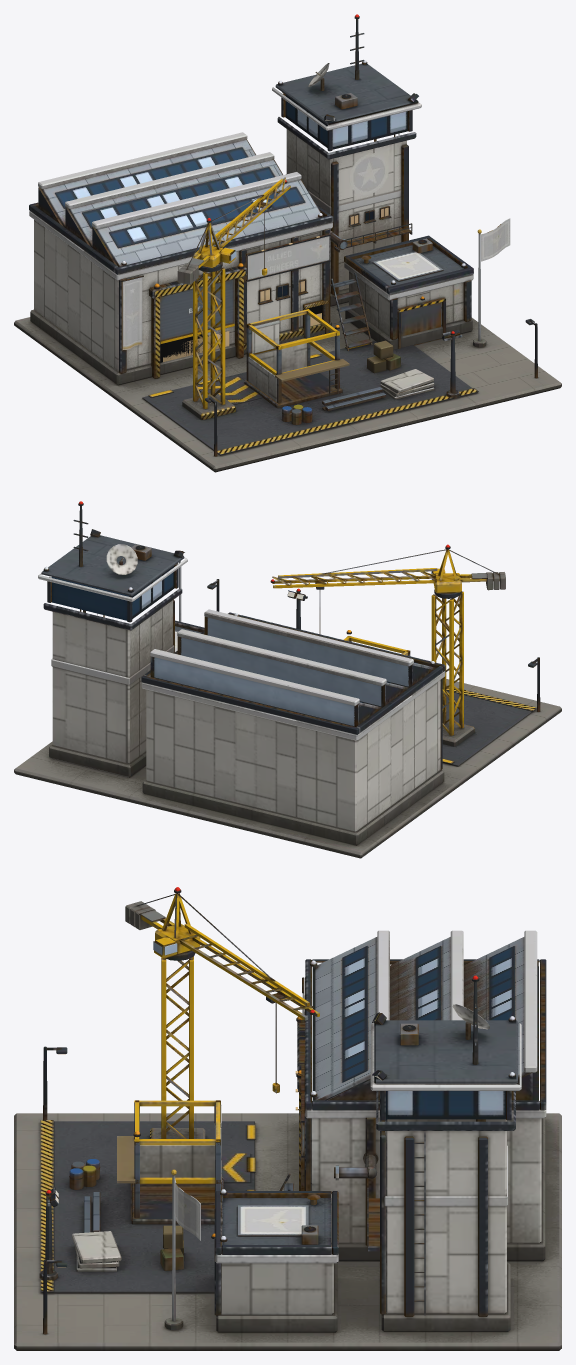
File: fact.allies.glb
3 renders of one model, top to bottom at view 1: azimuth 30°, elevation 25°; view 2: azimuth 150°, elevation 25°; view 3: azimuth 270°, elevation 25°, orthographic. The views are drawn at different scales.
Parts seen in each view (by area): view 1: root_mesh, crane_mesh; view 2: root_mesh, crane_mesh; view 3: root_mesh, crane_mesh.
Boxes of the visible parts, box(x1,y1,x2,y2) form: root_mesh: box(14, 14, 561, 472); crane_mesh: box(177, 177, 290, 284); root_mesh: box(14, 501, 561, 858); crane_mesh: box(270, 544, 505, 633); root_mesh: box(14, 930, 561, 1350); crane_mesh: box(125, 887, 319, 1093).
Bounding box in the file's own units: 3.11 × 2.11 × 2.98.
Materials: 1 (1 with a texture image).
